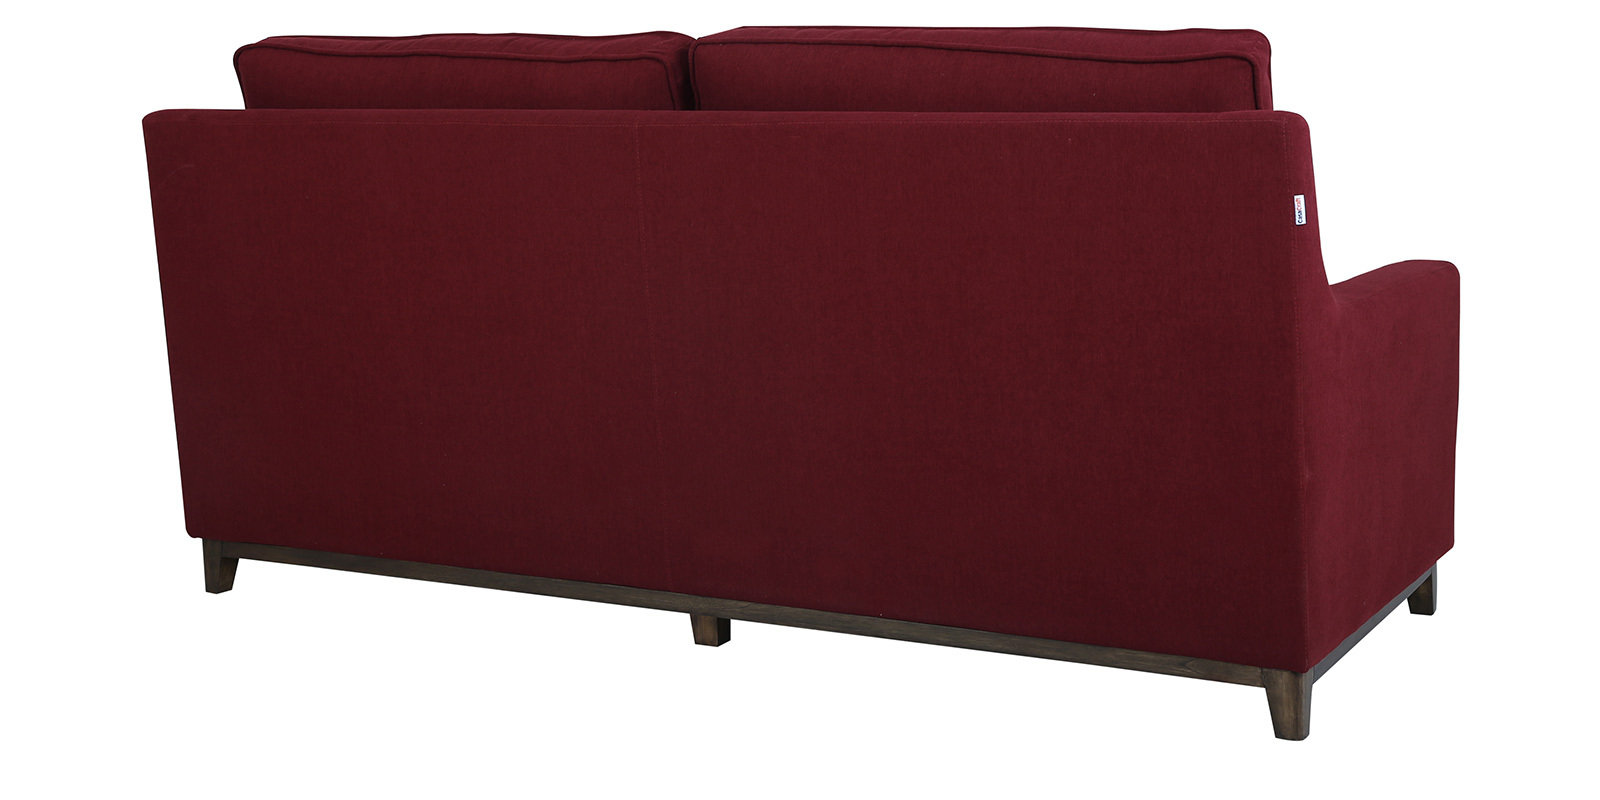Diego Three Seater Sofa in Garnet Red Colour by CasaCraft: (92, 11, 1494, 723)
